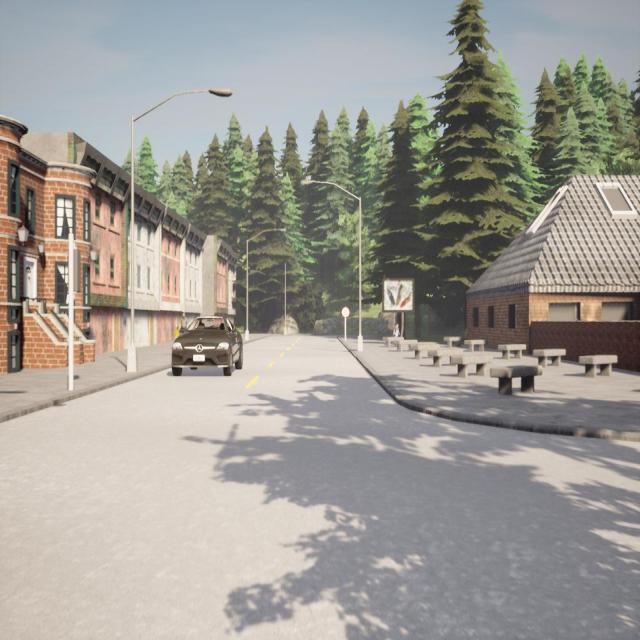Pedestrian: (176, 312, 188, 332), (392, 324, 401, 337)
Traffic_Signs: (341, 306, 350, 319)
Vehicle: (172, 316, 242, 375)
traffic_light: (74, 249, 80, 293)
